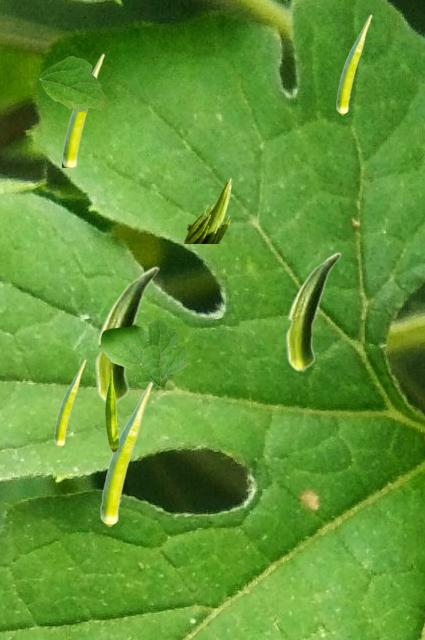okra: (94, 266, 158, 404), (100, 381, 152, 526), (285, 252, 340, 371), (62, 53, 103, 166), (336, 14, 371, 114), (183, 177, 232, 242), (54, 359, 85, 446), (105, 370, 118, 451)
